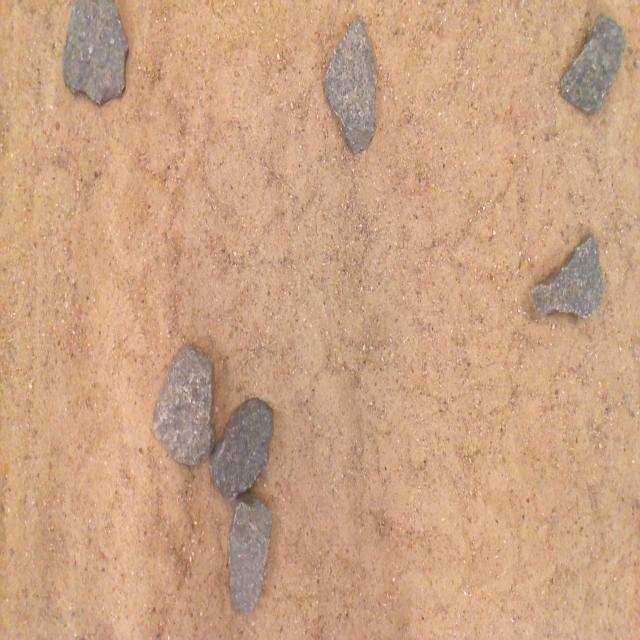rock: (153, 345, 215, 465), (325, 17, 376, 153), (63, 0, 128, 104), (209, 398, 273, 501), (559, 17, 625, 113), (529, 236, 603, 318), (228, 492, 272, 612)
